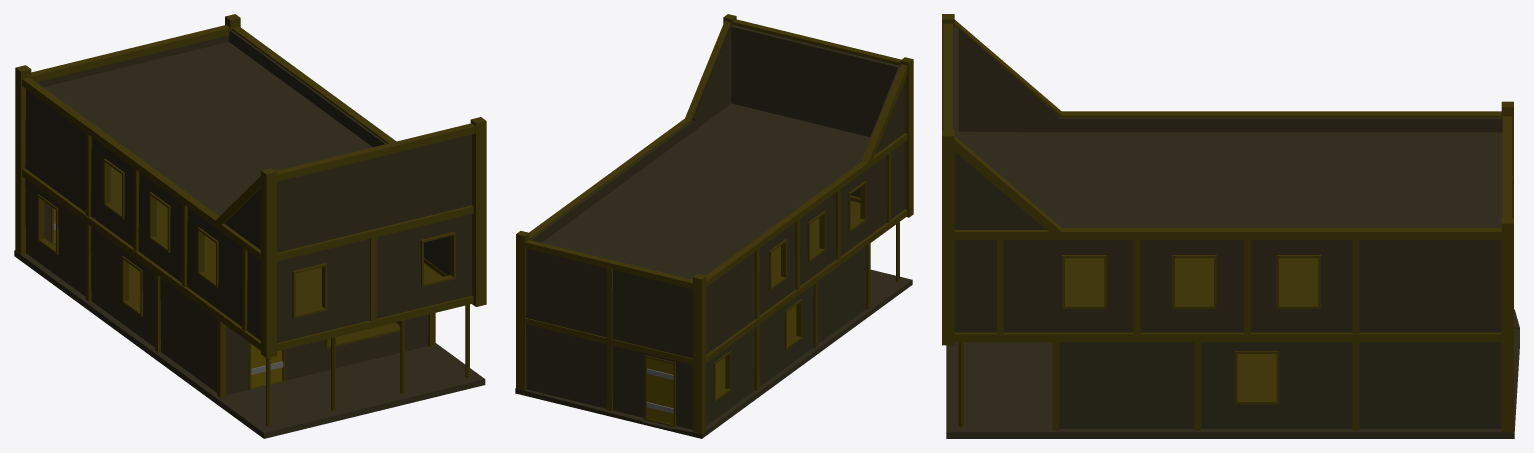
Rendered from Apothecary.fbx.
3 views of the same model, side by side, from view 1: azimuth 30°, elevation 25°; view 2: azimuth 150°, elevation 25°; view 3: azimuth 270°, elevation 25° (orthographic). The views are drawn at different scales.
Visible parts, largest first — view 1: Apothecary, Door31; view 2: Apothecary, Door30; view 3: Apothecary.
Boxes of the visible parts, x1,y1,x2,y2 form: Apothecary: (14,14,486,438); Door31: (251,344,283,387); Apothecary: (515,14,913,438); Door30: (646,358,673,424); Apothecary: (942,14,1519,438).
Bounding box in the file's own units: 19.21 × 22.06 × 38.18.
